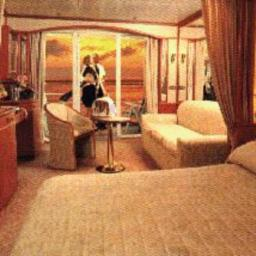Cama: (14, 144, 248, 253)
